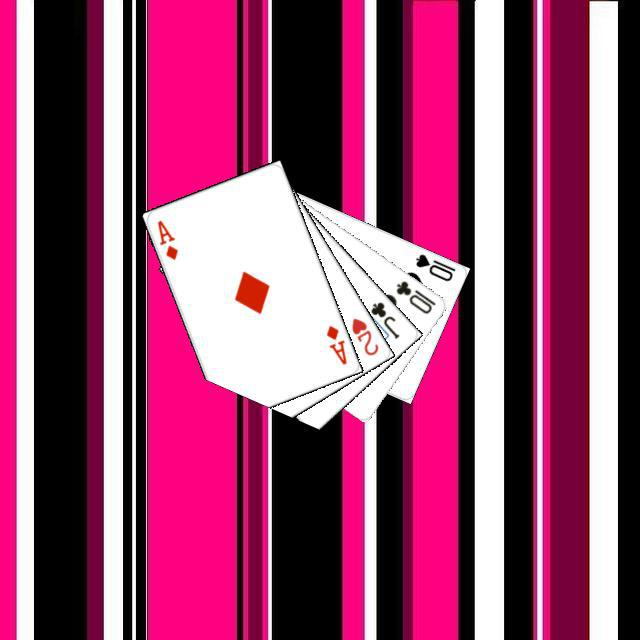10c: (391, 276, 437, 316)
10s: (410, 249, 457, 283)
2h: (346, 313, 380, 357)
Ad: (321, 320, 349, 367), (152, 215, 180, 261)
Jc: (366, 297, 401, 340)
